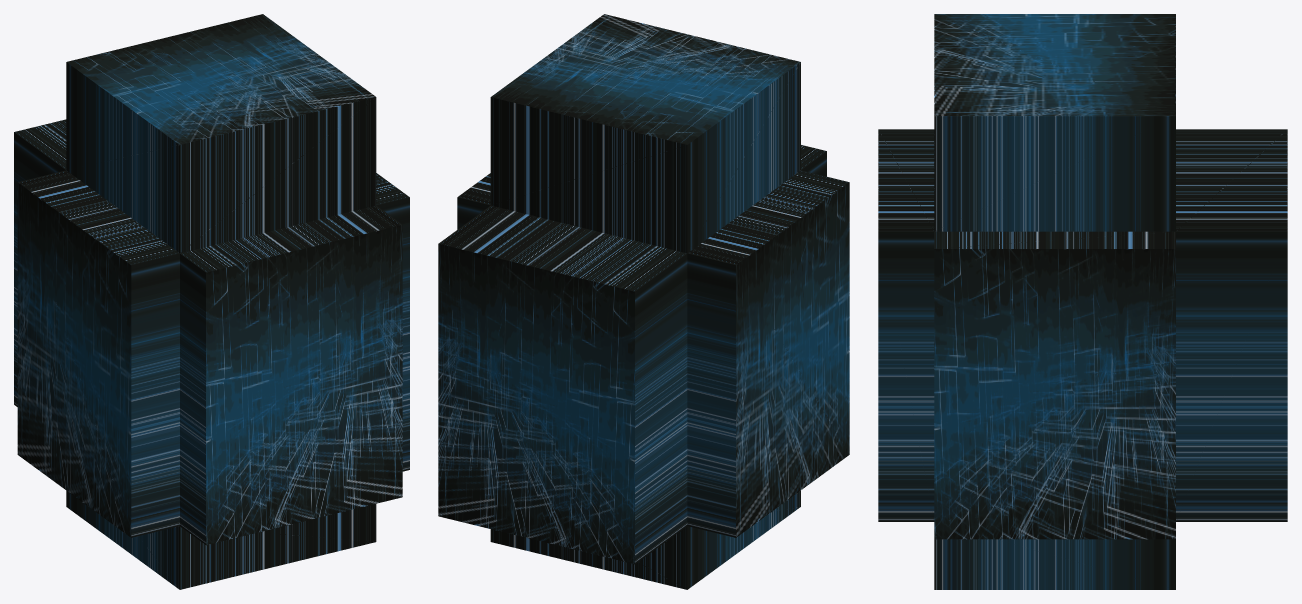
Rendered from haikei.fbx.
The picture shows the model from 3 angles, left to right: view 1: azimuth 30°, elevation 25°; view 2: azimuth 150°, elevation 25°; view 3: azimuth 270°, elevation 25°; orthographic projection. The views are drawn at different scales.
Visible parts, largest first — view 1: 平面; view 2: 平面; view 3: 平面.
Boxes of the visible parts, <box> form: 平面: <box>14,14,409,589</box>; 平面: <box>438,14,849,589</box>; 平面: <box>878,14,1287,589</box>.
Size of the model in its own units: 6804 by 10379 by 8120.
